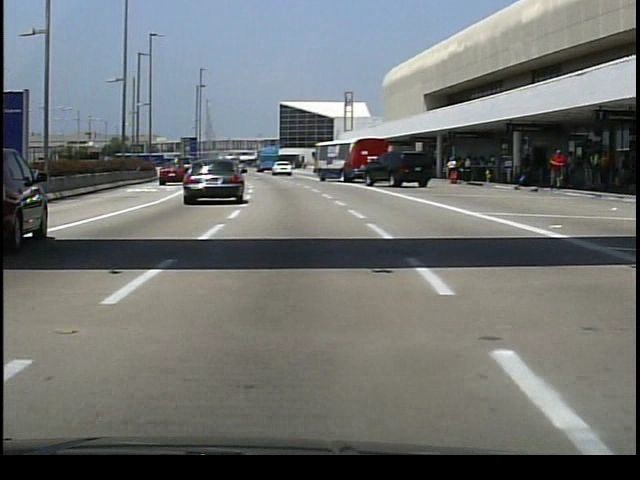person: (543, 145, 569, 192), (612, 154, 629, 191), (445, 156, 461, 188), (587, 149, 599, 189)
